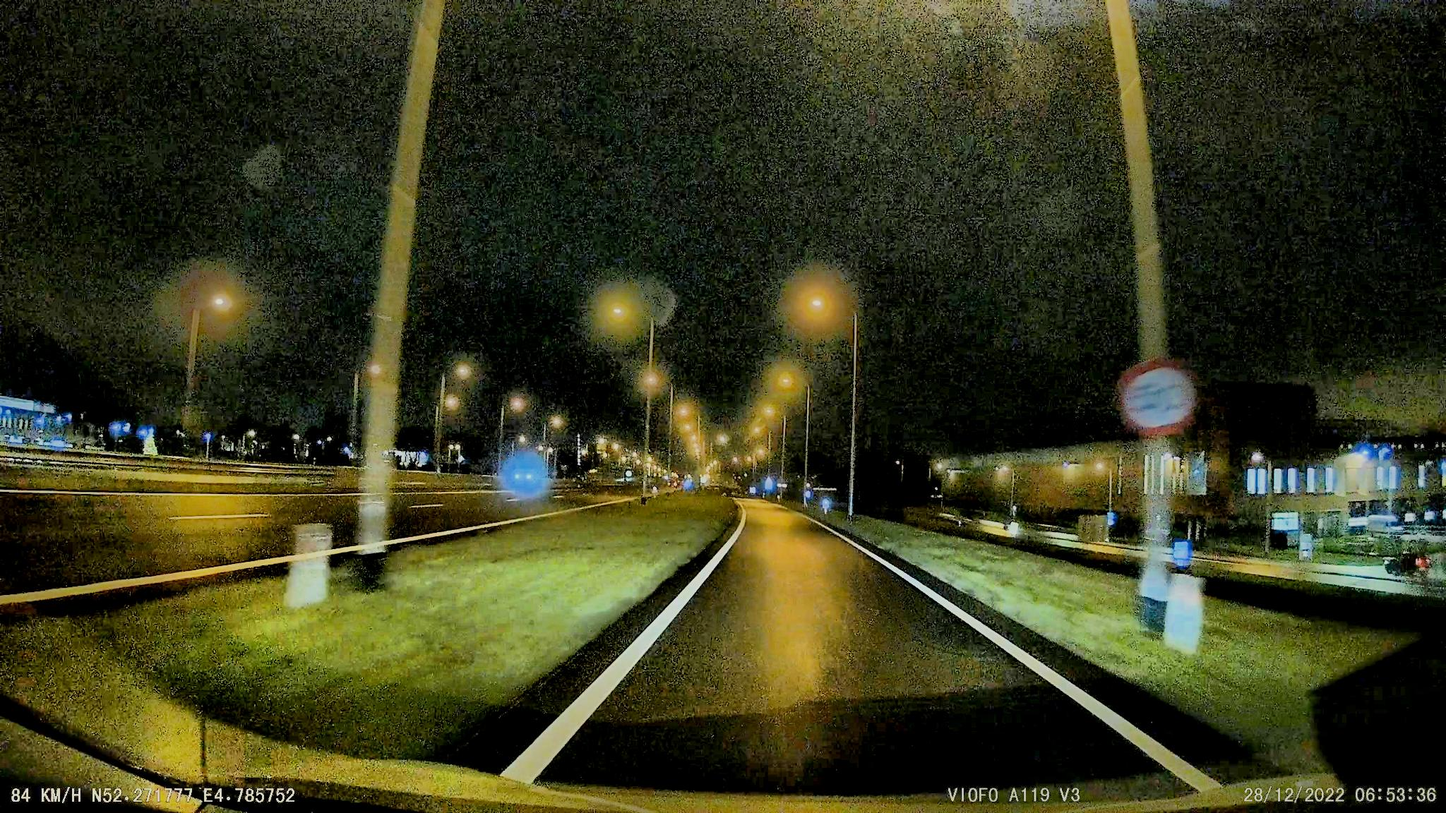Roads: (541, 502, 1179, 801), (0, 489, 578, 624)
